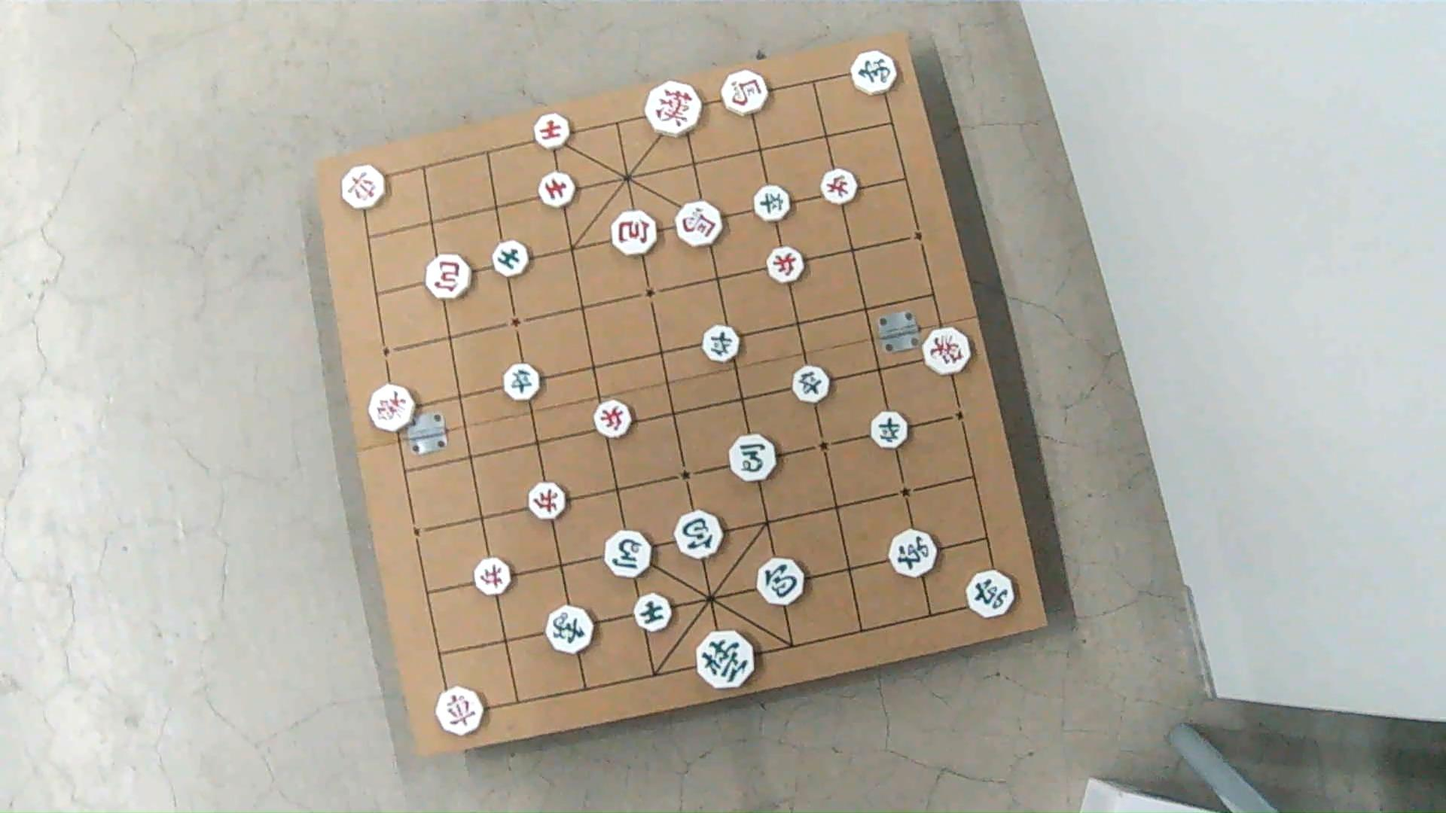cha_green: (966, 571, 1014, 618), (891, 531, 938, 578)
cha_red: (438, 687, 486, 736), (344, 165, 389, 209)
jol_green: (792, 364, 831, 401), (703, 324, 741, 361), (870, 411, 908, 448), (502, 362, 539, 399), (756, 187, 792, 224)
jol_red: (526, 484, 565, 522), (596, 402, 634, 440), (475, 559, 512, 596), (770, 246, 806, 283), (819, 169, 856, 204)
ma_green: (607, 532, 653, 580), (730, 436, 776, 484)
ma_red: (675, 200, 722, 246), (720, 70, 768, 114)
po_green: (676, 512, 723, 560), (759, 558, 806, 604)
po_red: (425, 255, 472, 300), (609, 211, 655, 255)
sa_green: (492, 239, 529, 277), (634, 596, 670, 635)
sa_red: (535, 113, 572, 149), (539, 173, 576, 209)
sang_green: (545, 607, 593, 654), (850, 50, 897, 94)
sang_red: (923, 330, 972, 376), (371, 385, 416, 431)
wang_green: (697, 630, 755, 689)
wang_red: (645, 82, 699, 137)
